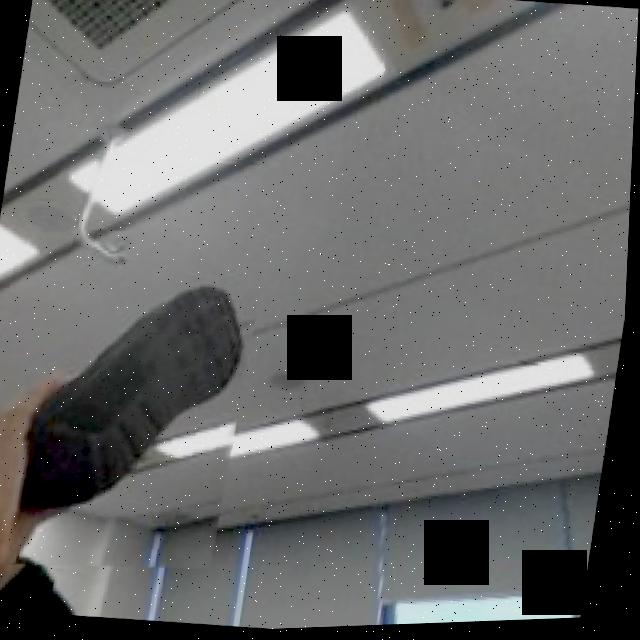shoe: (0, 217, 272, 590)
